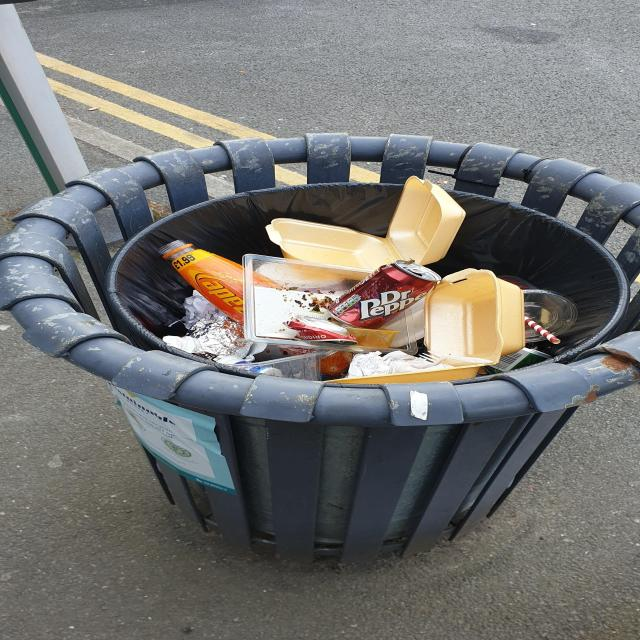litter: (320, 269, 526, 384), (266, 177, 467, 280), (243, 254, 418, 354), (156, 239, 288, 325), (328, 260, 441, 330), (497, 275, 578, 343), (223, 344, 325, 380), (343, 350, 453, 378), (185, 316, 252, 358), (168, 290, 229, 329), (283, 316, 358, 345), (486, 347, 551, 374), (216, 355, 283, 377), (341, 326, 402, 347), (523, 315, 560, 343), (418, 350, 495, 363), (163, 336, 195, 353)
